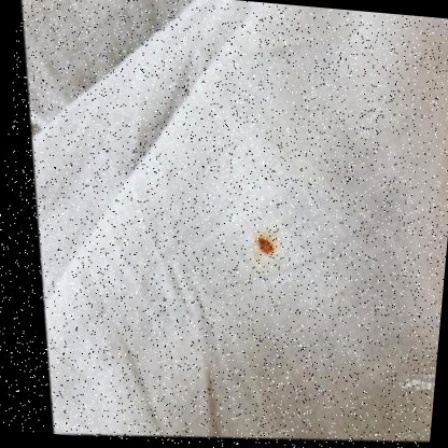kimchi: (253, 231, 280, 267)
